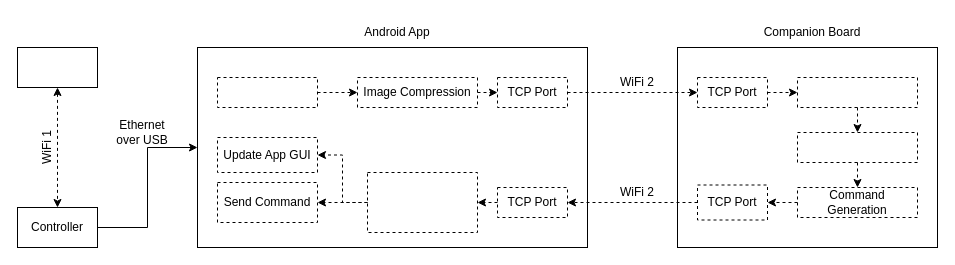
The diagram is 955 pixels wide and 265 high, and some of its shapes have lost their labels. Each missing label, with the centre of its shape:
April Tag Detection: pixel 857 92
Control Policy: pixel 857 147
DJI Spark: pixel 57 67
Video Stream: pixel 267 92
Virtual Stick Input Creation: pixel 422 202
